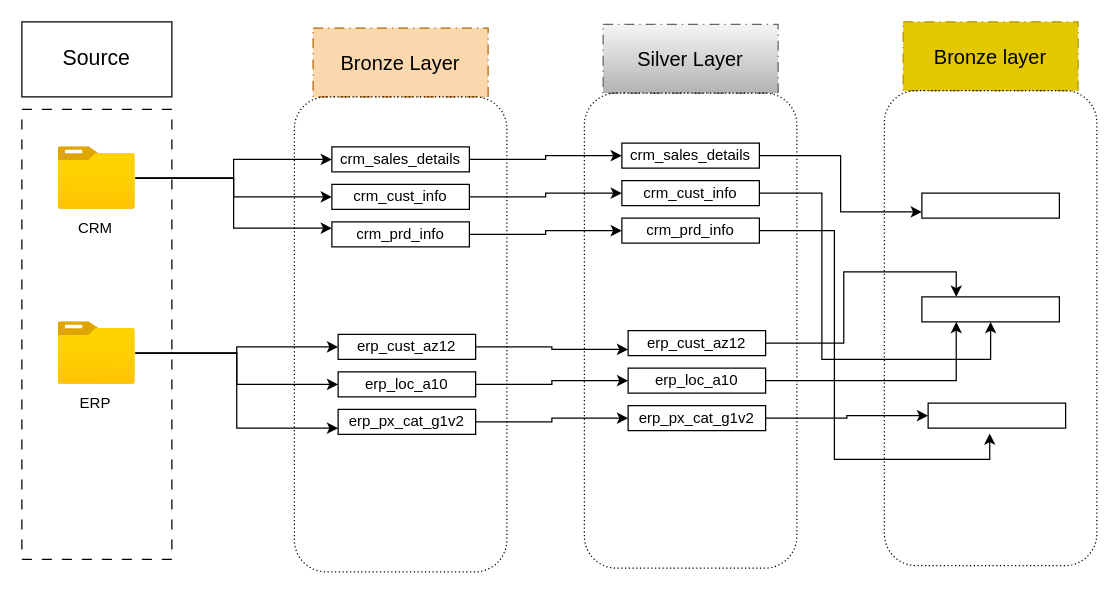
The diagram is 1119 pixels wide and 594 high, and some of its shapes have lost their labels. The shapes that lost their labels are listed below. From the top down, each one's box as (x1, y1, x2, y2) in pixels, then its label:
(921, 192, 1059, 218): fact_tables
(921, 296, 1059, 322): dim_customers
(927, 402, 1066, 428): dim_products
